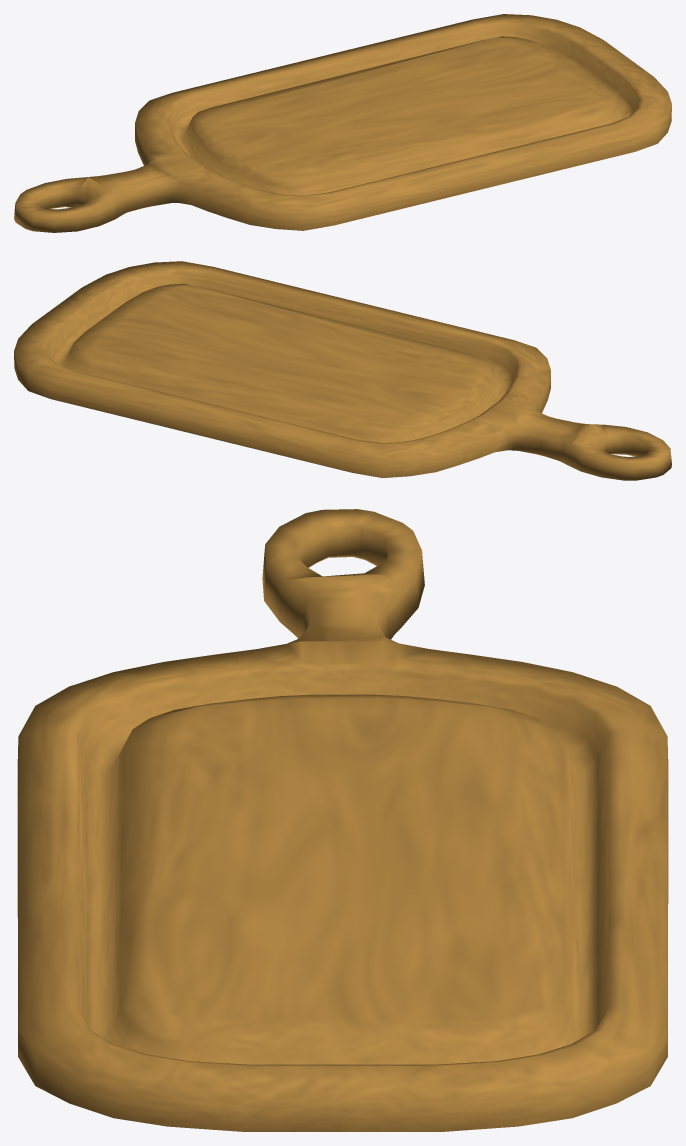
File: cuttingboard.glb
The picture shows the model from 3 angles, top to bottom: view 1: azimuth 30°, elevation 25°; view 2: azimuth 150°, elevation 25°; view 3: azimuth 270°, elevation 25°; orthographic projection. The views are drawn at different scales.
Parts seen in each view (by area): view 1: cuttingboard; view 2: cuttingboard; view 3: cuttingboard.
Boxes of the visible parts, box(x1,y1,x2,y2) form: cuttingboard: box(14, 14, 671, 232); cuttingboard: box(14, 261, 671, 480); cuttingboard: box(17, 509, 668, 1131).
Bounding box in the file's own units: 1.59 × 0.0799 × 0.7363.
Materials: 1 (1 with a texture image).
